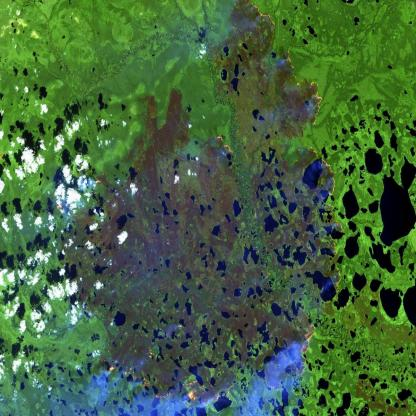fire: (216, 0, 328, 128), (95, 347, 242, 416), (304, 141, 350, 294), (285, 294, 318, 396), (206, 133, 240, 165)
